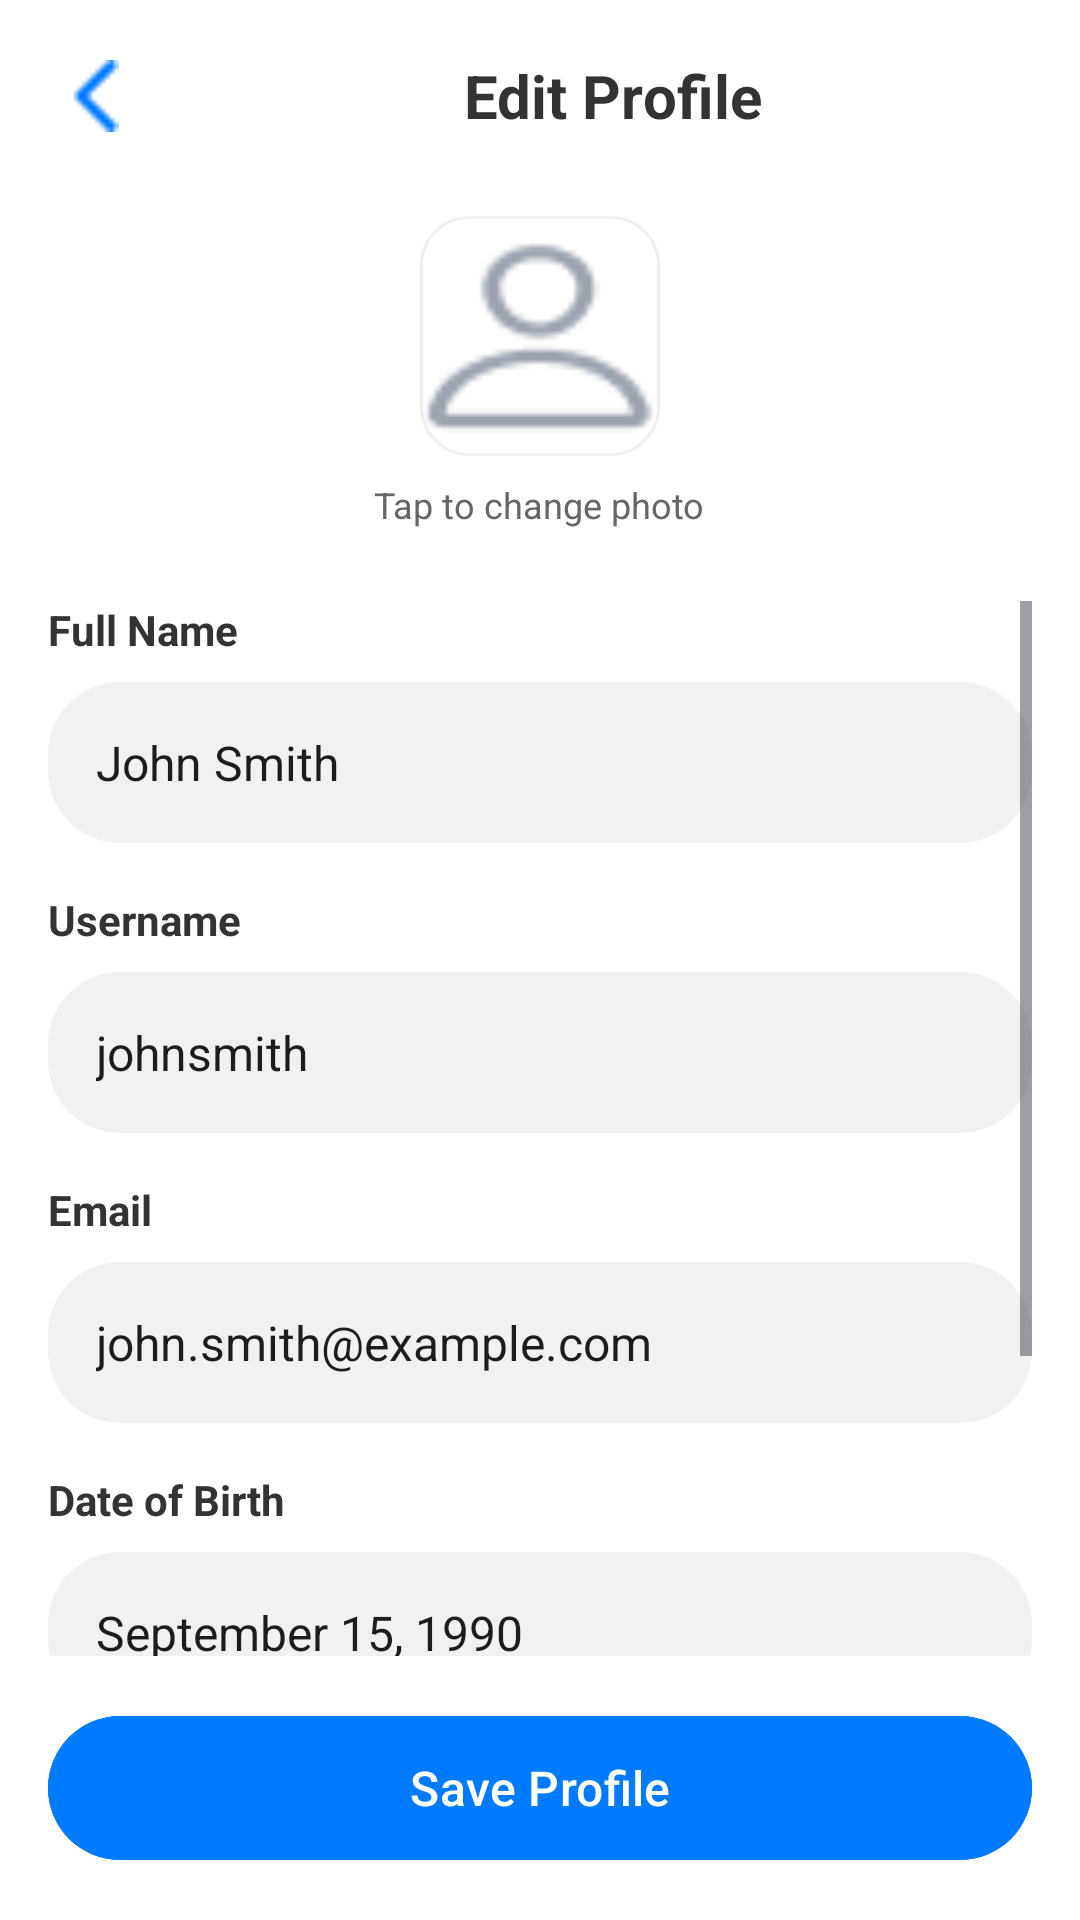

Icon click points for this 1080*1920 phone screenshot, format point (x, y):
back arrow: point (96, 96)
